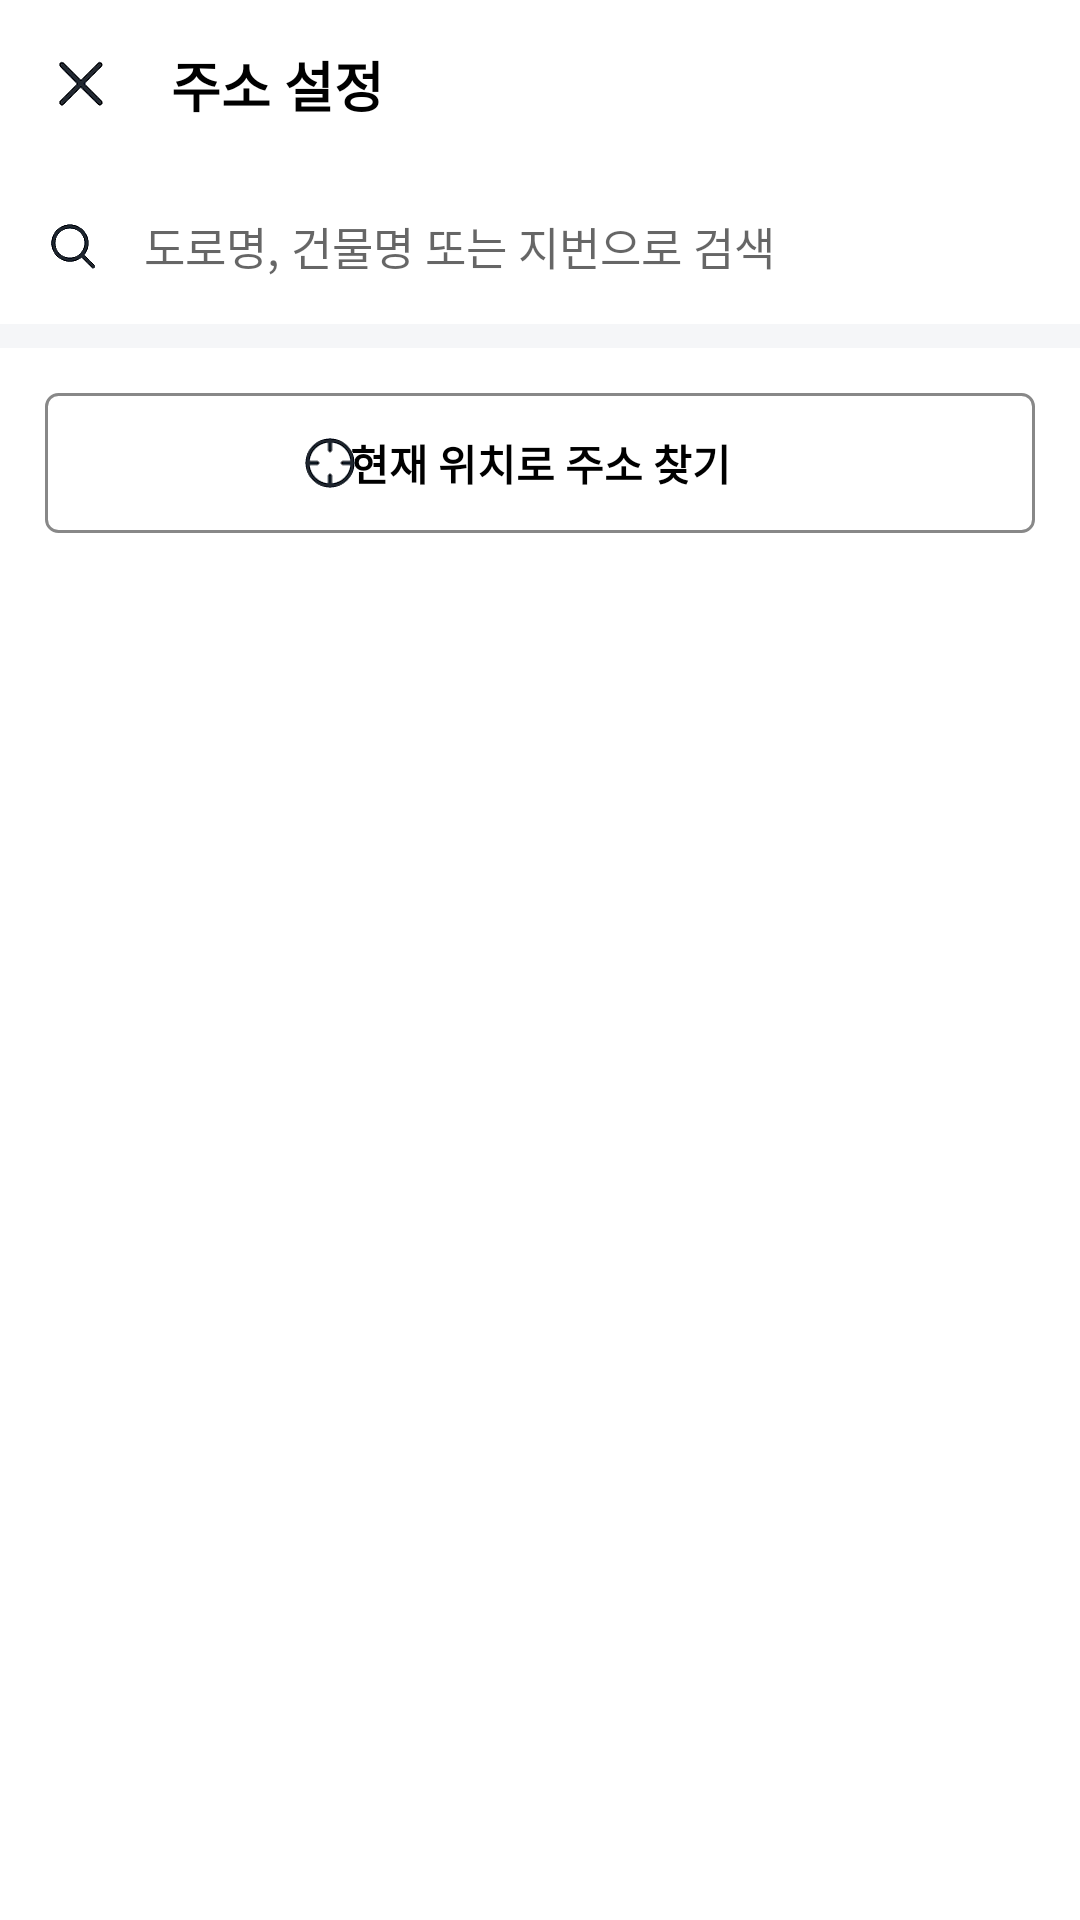

Icons on this 1080 x 1920 Android screen, each with the point to tap as point (x, y):
login quit: point (81, 83)
